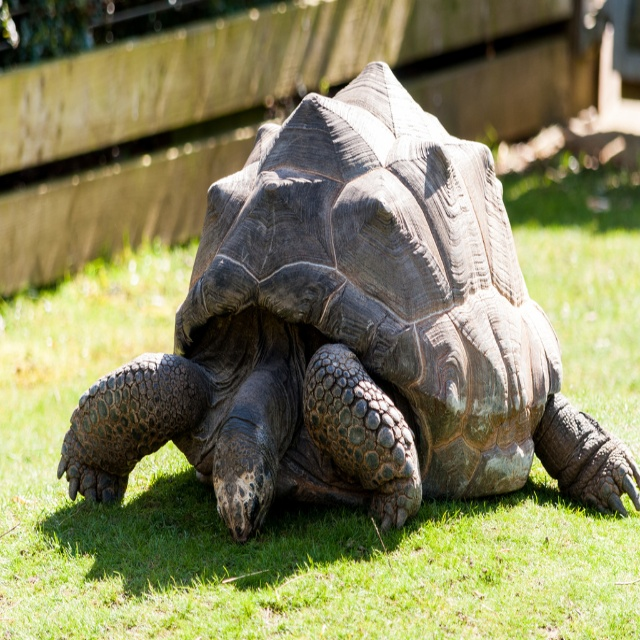Sea turtle: (56, 59, 640, 540)
